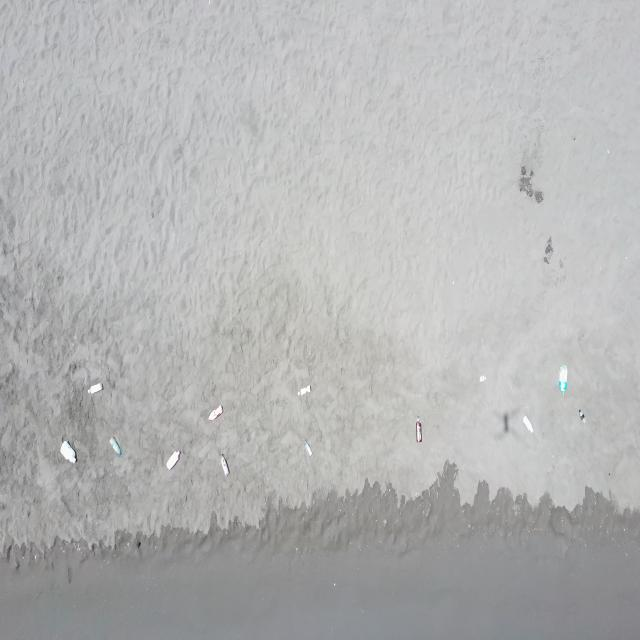Garbage: (520, 166, 542, 201), (60, 440, 74, 463), (557, 364, 567, 395), (167, 449, 180, 468), (543, 236, 552, 263), (108, 436, 120, 455), (208, 404, 220, 420), (220, 453, 227, 475), (296, 384, 310, 395), (523, 415, 532, 432), (303, 440, 312, 455), (415, 417, 420, 442), (88, 383, 100, 392), (577, 408, 584, 422), (479, 375, 486, 382)
